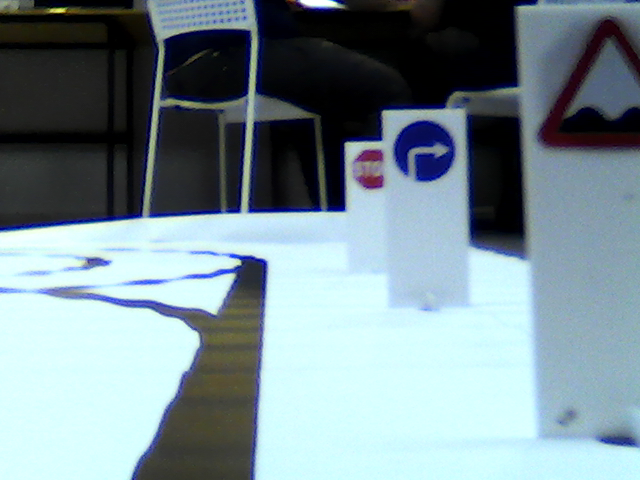Nerov: (531, 14, 639, 155)
Stop: (351, 148, 384, 188)
